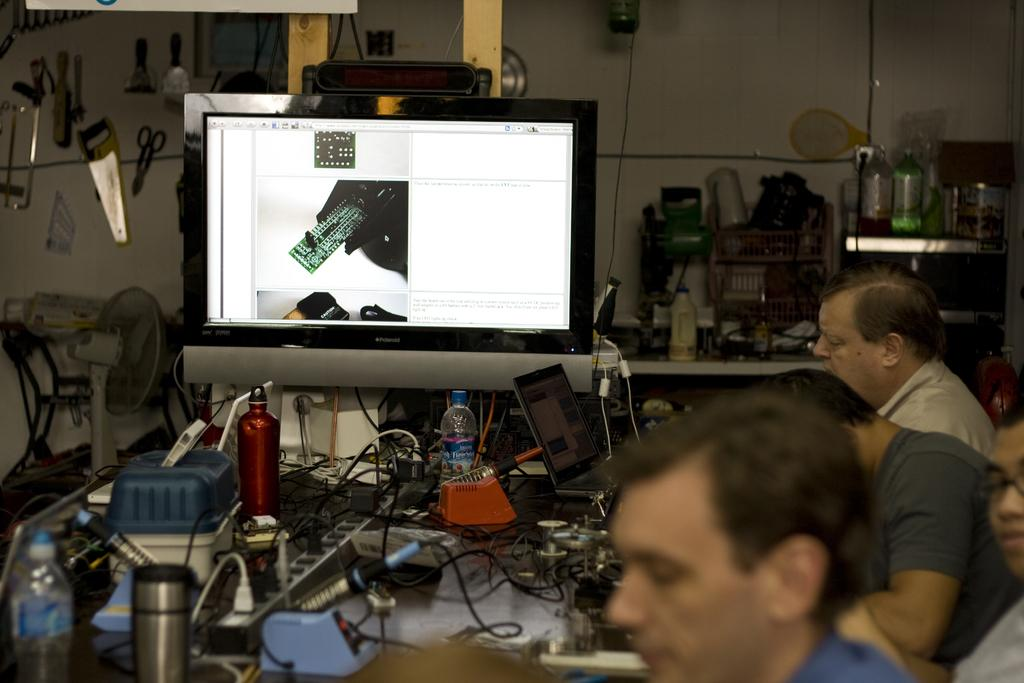Computer-monitor: (176, 87, 600, 393)
Laptop: (511, 362, 620, 502)
